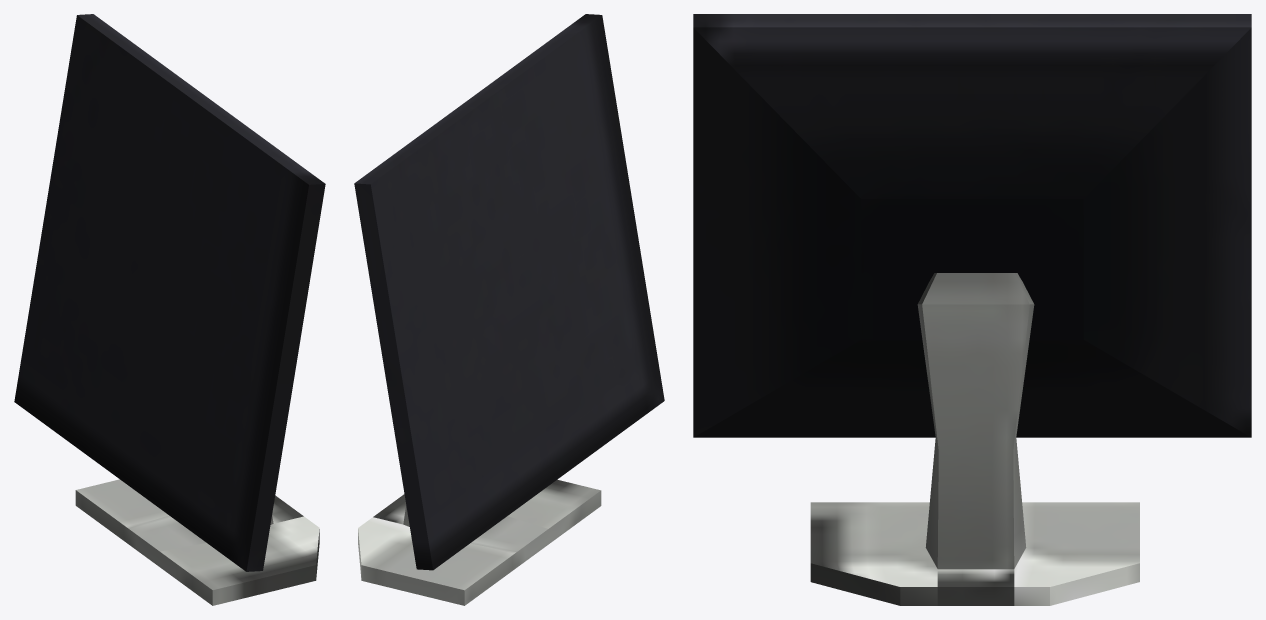
Rendered from Tx_prop_desktop_3.fbx.
3 views of the same model, side by side, from view 1: azimuth 30°, elevation 25°; view 2: azimuth 150°, elevation 25°; view 3: azimuth 270°, elevation 25° (orthographic). The views are drawn at different scales.
Visible parts, largest first — view 1: polySurface5, polySurface6; view 2: polySurface5, polySurface6; view 3: polySurface5, polySurface6.
Part boxes in pixels (bbox=[...]): polySurface5: bbox=[14, 14, 325, 571]; polySurface6: bbox=[75, 479, 319, 605]; polySurface5: bbox=[354, 14, 664, 570]; polySurface6: bbox=[358, 479, 601, 605]; polySurface5: bbox=[693, 14, 1251, 437]; polySurface6: bbox=[810, 273, 1139, 605].
Bounding box in the file's own units: 1.36 × 3.63 × 3.43.
